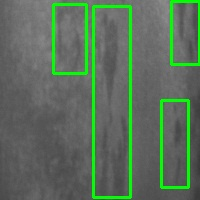inclusion: (93, 6, 130, 197), (161, 100, 188, 187), (53, 4, 86, 73), (171, 1, 199, 64)
